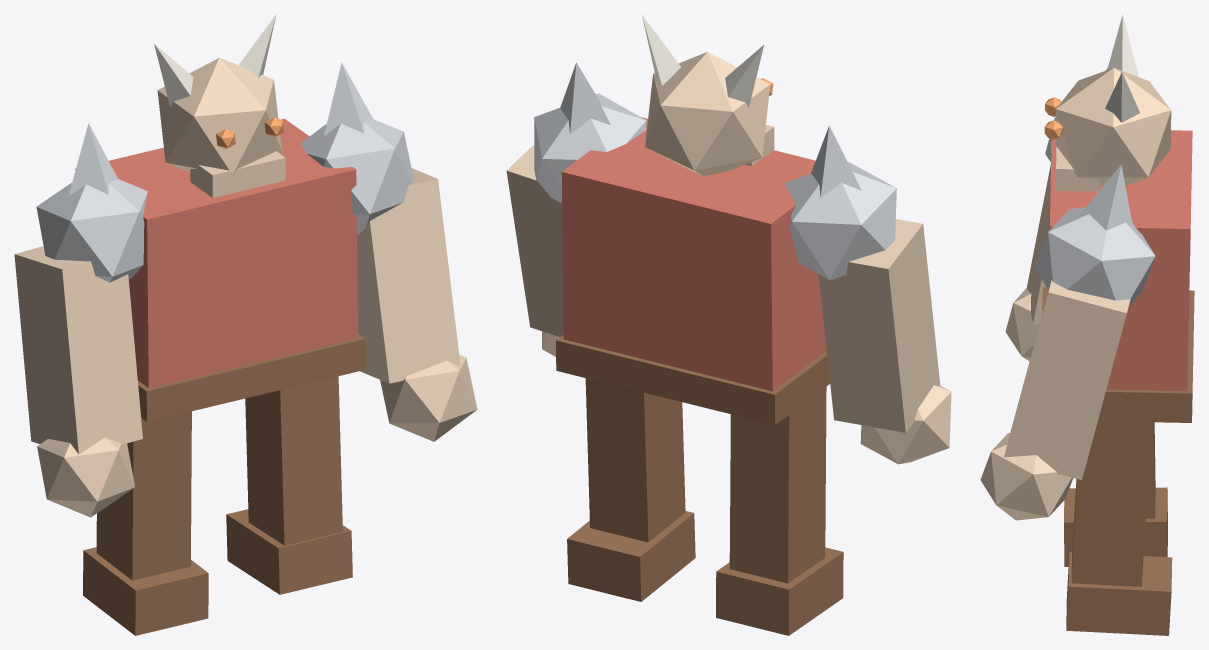
File: npcpose_brute_idle_10.glb
3 renders of one model, left to right at view 1: azimuth 30°, elevation 25°; view 2: azimuth 150°, elevation 25°; view 3: azimuth 270°, elevation 25°, orthographic. The views are drawn at different scales.
Visible parts, largest first — view 1: npcpose; view 2: npcpose; view 3: npcpose.
Boxes of the visible parts, left/top/right/bottom form: npcpose: left=14, top=14, right=477, bottom=635; npcpose: left=506, top=14, right=951, bottom=635; npcpose: left=980, top=14, right=1194, bottom=635.
Bounding box in the file's own units: 1.43 × 1.85 × 0.6641.
